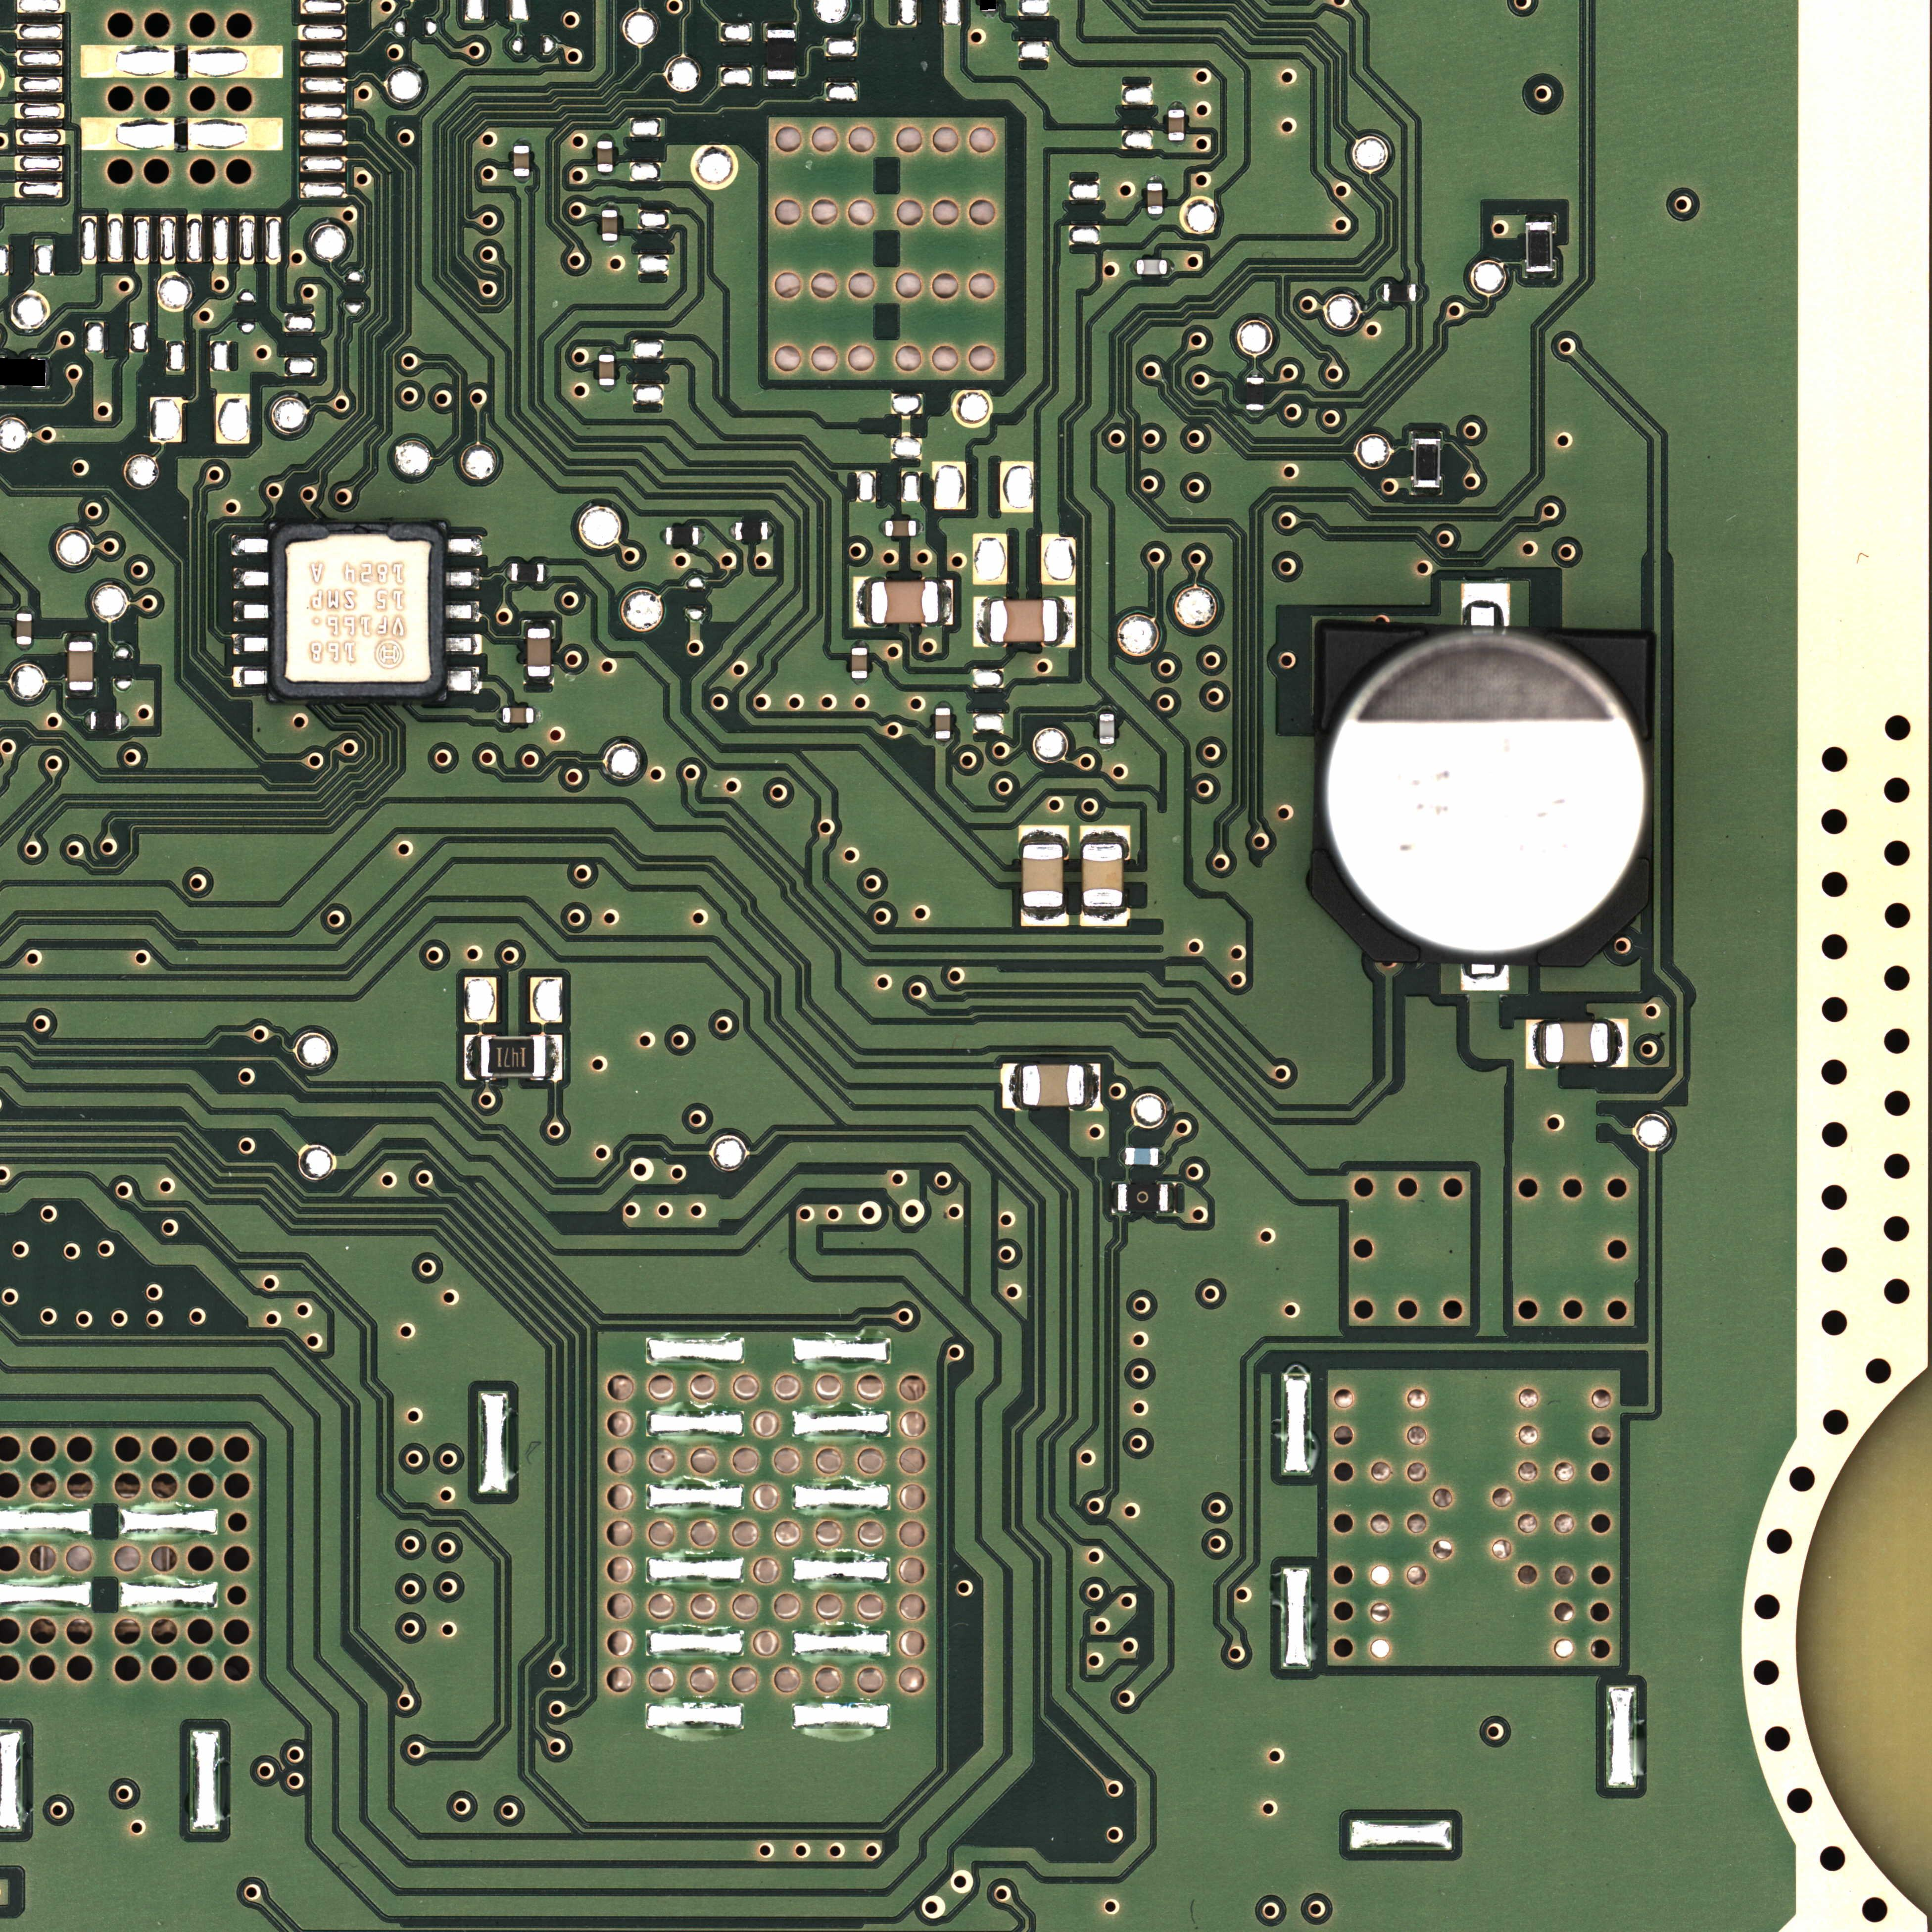Package: (1315, 631, 1654, 964), (271, 524, 446, 700), (990, 601, 1058, 643), (872, 581, 939, 624), (480, 1038, 546, 1077), (1022, 1065, 1084, 1106), (1546, 1023, 1609, 1063), (1023, 845, 1063, 907), (1083, 845, 1122, 907), (1119, 1184, 1170, 1211), (768, 30, 796, 79), (1527, 223, 1552, 272), (69, 642, 94, 690), (1415, 438, 1439, 487), (528, 628, 551, 676), (511, 563, 544, 582), (666, 526, 698, 545), (1247, 378, 1264, 411), (1125, 1148, 1158, 1165), (735, 523, 768, 540), (1384, 284, 1416, 302), (91, 713, 122, 730), (1168, 110, 1185, 141), (514, 145, 530, 177), (503, 708, 534, 724), (599, 354, 615, 385), (1148, 183, 1163, 214), (17, 613, 32, 644), (598, 141, 613, 172), (602, 210, 618, 241), (1137, 259, 1167, 275), (886, 521, 916, 536), (935, 709, 951, 739), (852, 648, 868, 678), (1100, 714, 1114, 744)
Solder: (1461, 583, 1510, 631), (1460, 965, 1509, 991), (1018, 825, 1070, 844), (1079, 825, 1130, 844), (1081, 907, 1128, 927), (853, 577, 870, 627), (1021, 907, 1068, 926), (1526, 1020, 1544, 1070), (1002, 1064, 1021, 1109), (447, 667, 480, 693), (1059, 598, 1076, 647), (1610, 1019, 1627, 1066), (547, 1035, 564, 1080), (973, 598, 989, 646), (232, 535, 269, 555), (232, 569, 270, 589), (233, 635, 270, 655), (233, 601, 270, 622), (233, 668, 270, 688), (546, 1035, 563, 1080), (1085, 1064, 1101, 1109), (447, 635, 483, 655), (464, 1036, 480, 1079), (447, 537, 483, 556), (447, 569, 482, 588), (939, 580, 953, 625), (447, 601, 479, 620), (1525, 272, 1557, 282), (1523, 213, 1555, 222), (1411, 429, 1443, 438), (1169, 1183, 1178, 1212), (525, 677, 555, 685), (67, 633, 95, 641), (525, 619, 553, 628), (46, 359, 54, 387), (767, 81, 796, 88), (66, 691, 98, 697), (1411, 488, 1443, 495), (767, 22, 796, 29), (1111, 1182, 1117, 1212), (1247, 369, 1264, 378), (1247, 413, 1265, 421), (769, 522, 775, 542), (599, 346, 615, 354), (602, 202, 618, 210), (545, 563, 551, 583), (728, 521, 734, 541), (917, 520, 923, 537), (1100, 706, 1115, 714), (601, 242, 618, 249), (699, 526, 705, 546), (17, 605, 33, 613), (659, 527, 665, 546), (84, 712, 90, 730), (852, 640, 868, 647), (935, 700, 951, 708), (852, 679, 868, 686), (504, 563, 510, 581), (496, 707, 502, 724), (123, 713, 130, 729), (936, 739, 952, 746), (1168, 103, 1185, 109), (534, 706, 541, 723), (878, 519, 884, 536), (1168, 141, 1185, 147), (1377, 284, 1383, 301), (1148, 176, 1163, 183), (514, 139, 531, 145), (514, 177, 530, 183), (1416, 285, 1422, 302), (1100, 744, 1114, 751), (599, 386, 616, 391), (980, 11, 997, 17), (598, 135, 613, 141), (597, 172, 613, 178), (1132, 259, 1137, 275), (1119, 1149, 1125, 1165), (1159, 1149, 1164, 1165), (1168, 260, 1173, 276), (16, 645, 32, 650), (1147, 214, 1163, 219)
